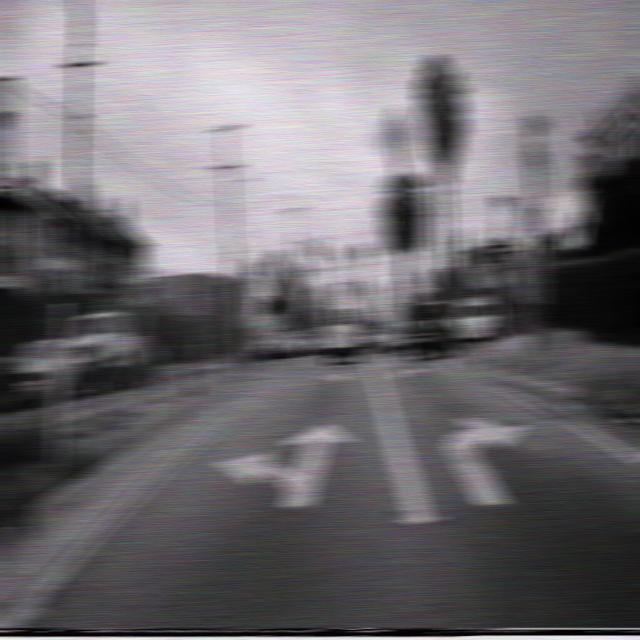stop_sign: (260, 248, 292, 296)
